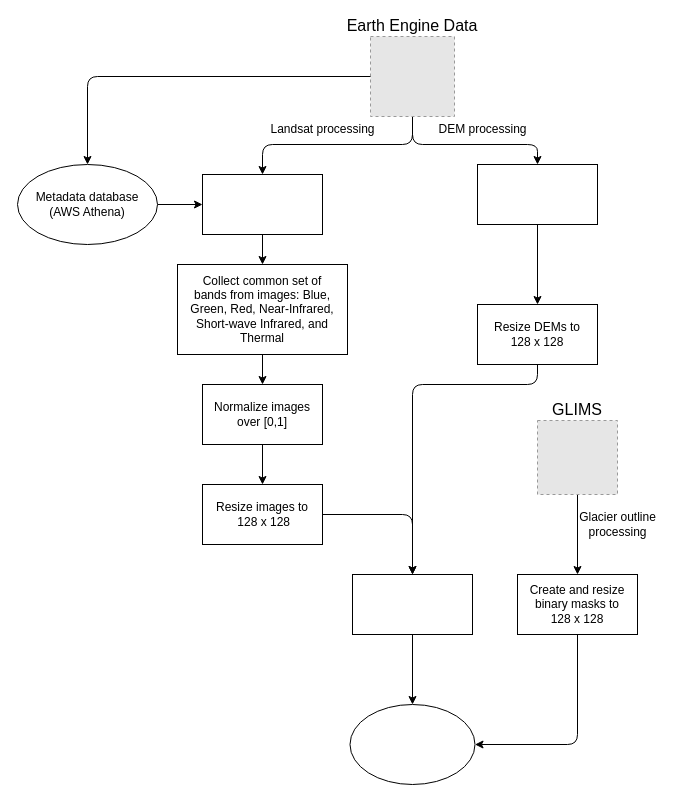
Some shapes in this 685 by 802 pixel diagram are drawn without their labels. Grey dashed boxes stand in for pictures. The shapes that lost their labels are listed below. From the top down, each one's centre as x and y in pixels, then its label:
point (262, 204): Image attribute filtering
point (537, 194): Normalize DEMs over [0,1]
point (412, 604): Append DEMs to Landsat image as another band
point (412, 744): Store processed training data to Amazon S3
